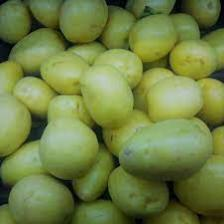Defected potato: (38, 94, 114, 202), (117, 110, 214, 186), (131, 67, 203, 123), (170, 150, 224, 224), (107, 166, 169, 224), (8, 174, 76, 224), (7, 29, 70, 82), (79, 62, 132, 124), (169, 29, 224, 86), (169, 76, 224, 130), (0, 140, 56, 190), (128, 14, 179, 64), (0, 92, 33, 160), (58, 1, 110, 44), (13, 76, 63, 119), (100, 5, 139, 58), (70, 199, 137, 224), (0, 0, 33, 44), (178, 0, 221, 28), (28, 0, 69, 29), (125, 0, 178, 22)
